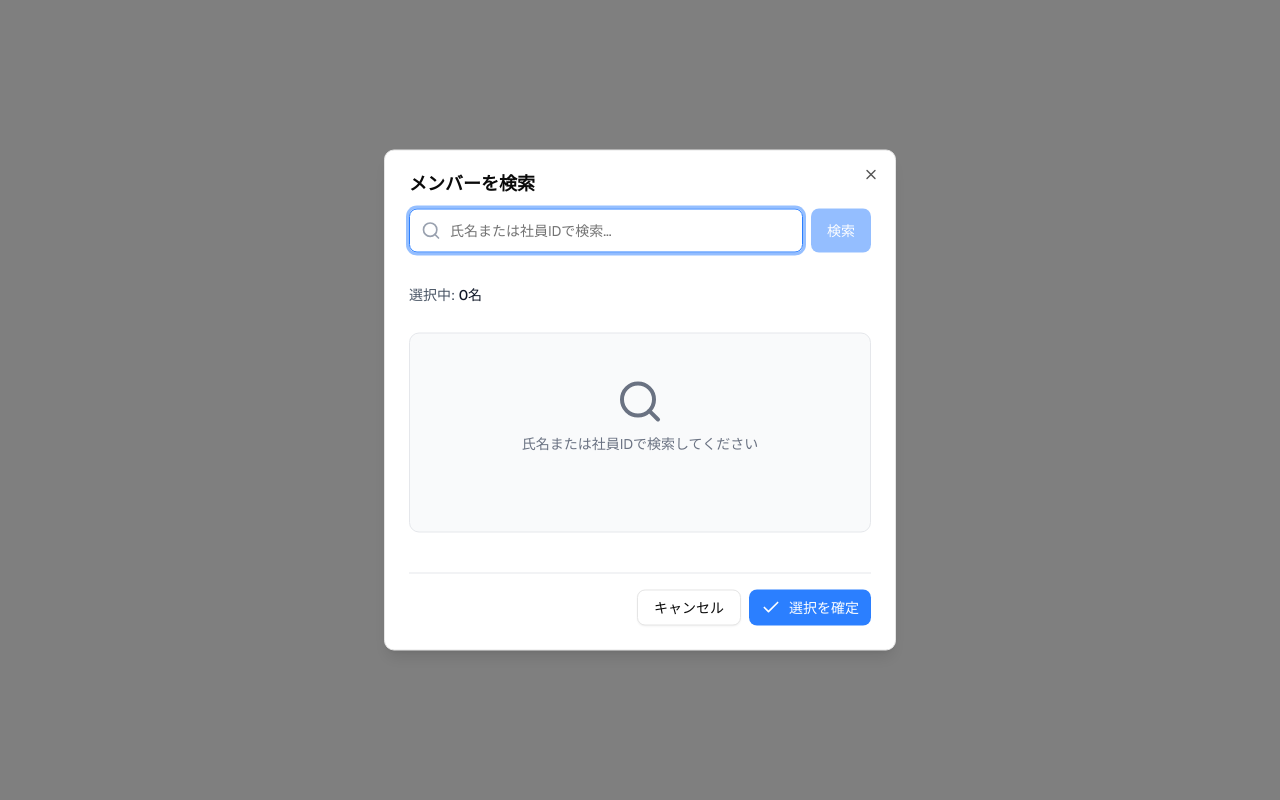
Scenario: MemberSearchModal › エラー表示 › エラーメッセージが表示される
The width and height of the screenshot is (1280, 800).
Step 1. Type "テスト" into the search field with placeholder "氏名または社員IDで検索..." → (606, 230), box left=409, top=208, right=803, bottom=252
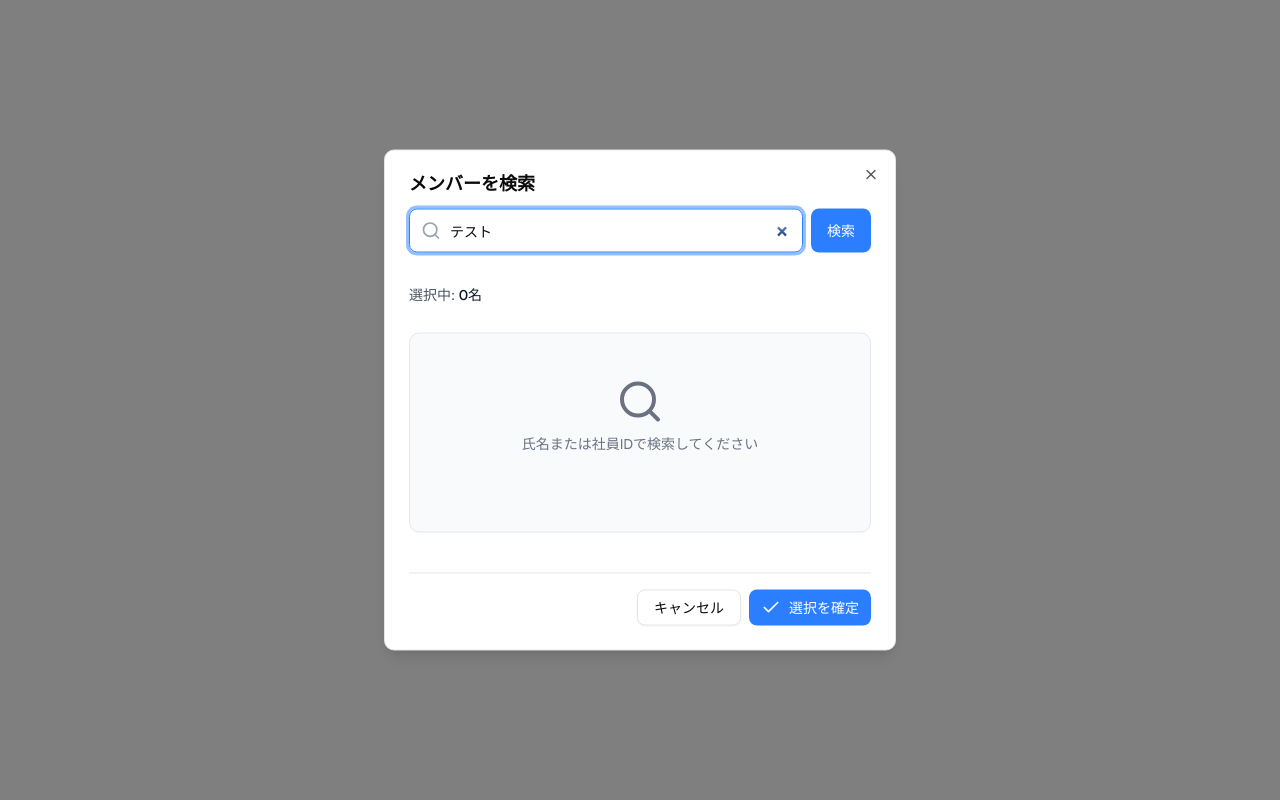
Step 2. Click the button "検索" → (841, 230), box left=811, top=208, right=871, bottom=252
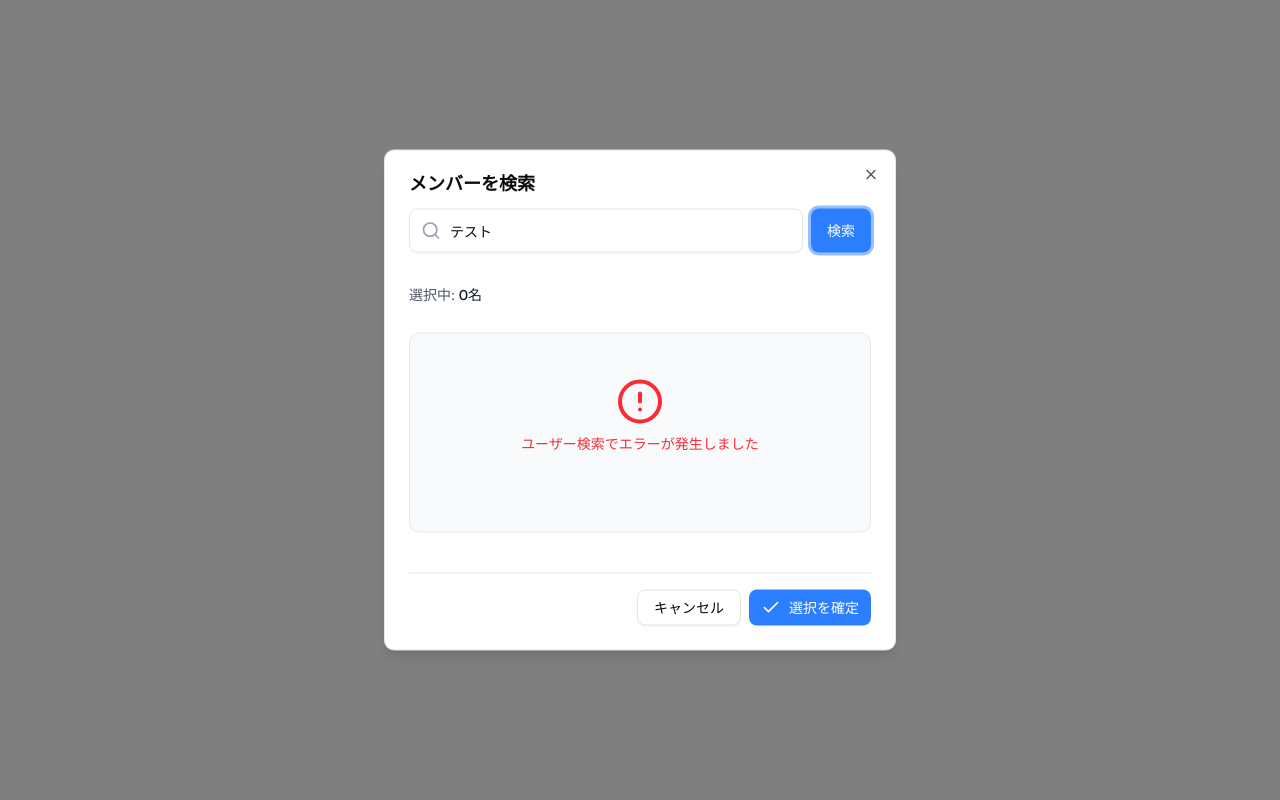
Expected: the text "ユーザー検索でエラーが発生しました" is shown, left=521, top=434, right=759, bottom=454
